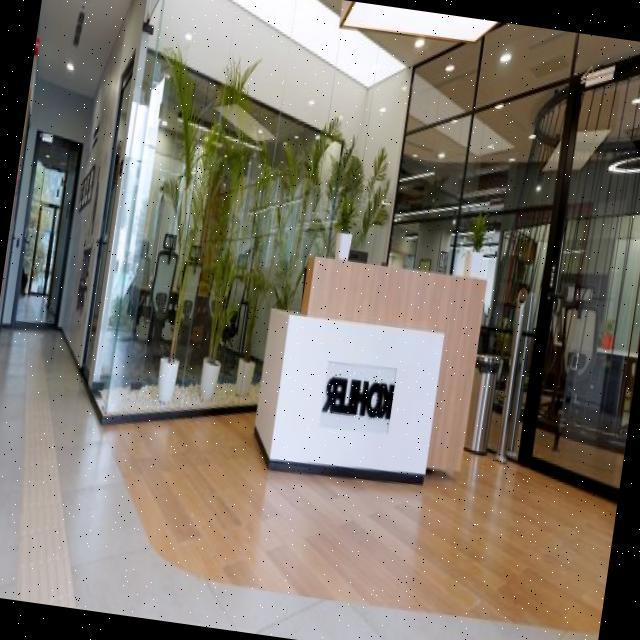Kohler: (319, 366, 396, 425)
